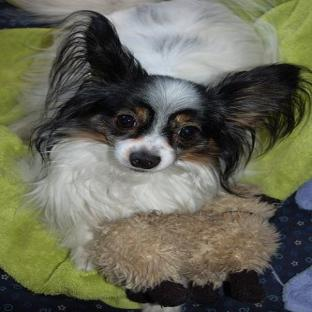Animal: (11, 0, 304, 270)
